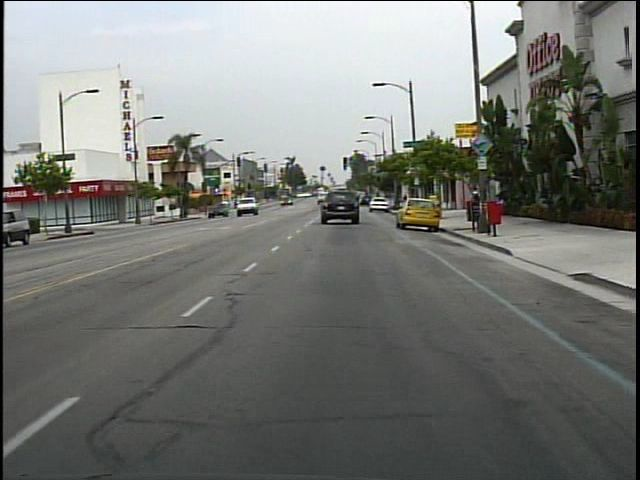person: (466, 184, 487, 222)
